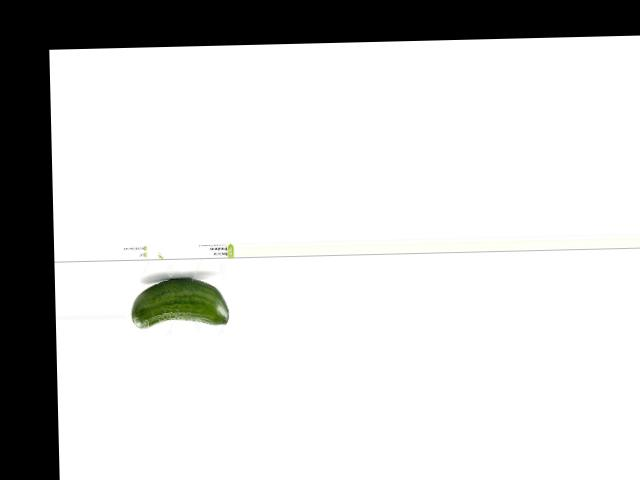cucumber: (130, 277, 228, 327)
